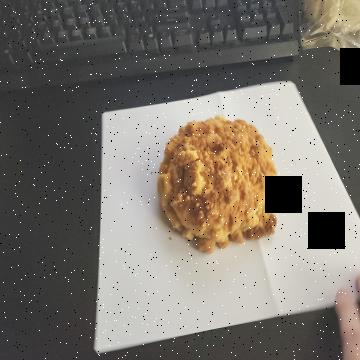soboru_bread: (156, 115, 280, 249)
